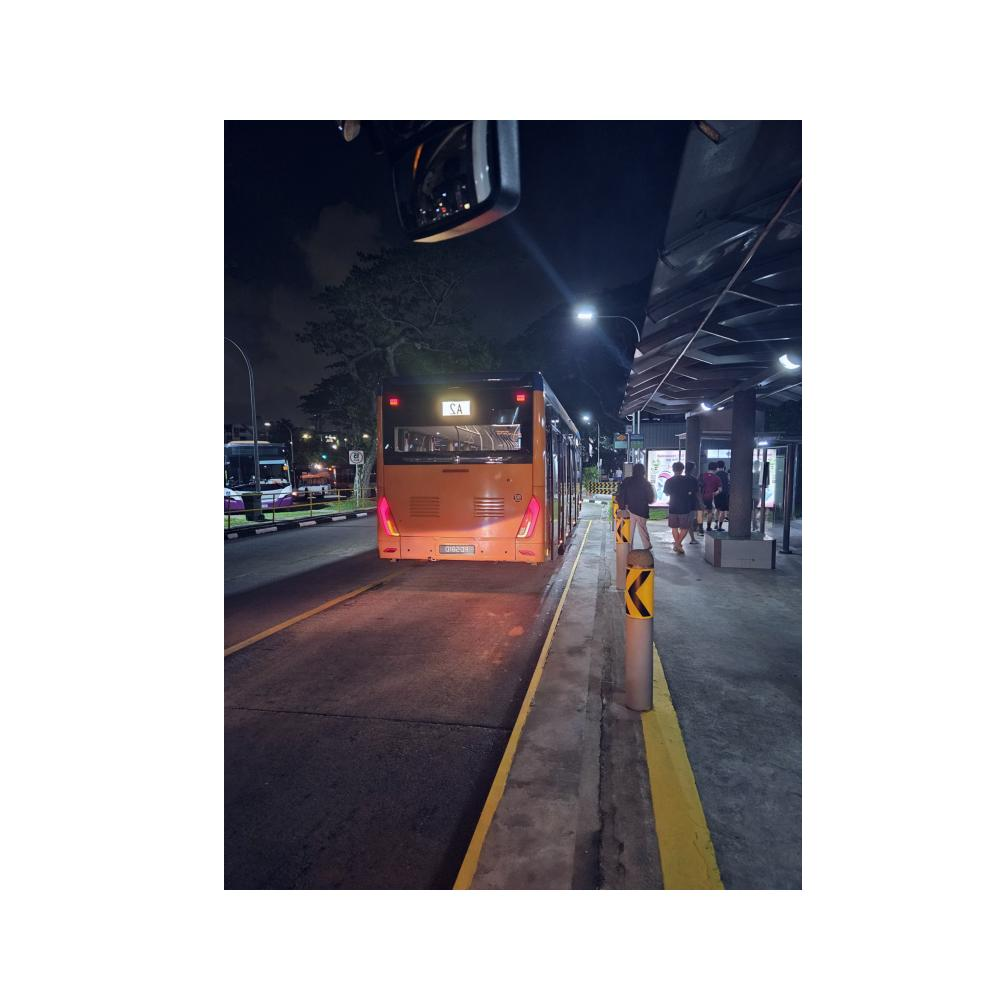bus: (370, 367, 584, 561)
